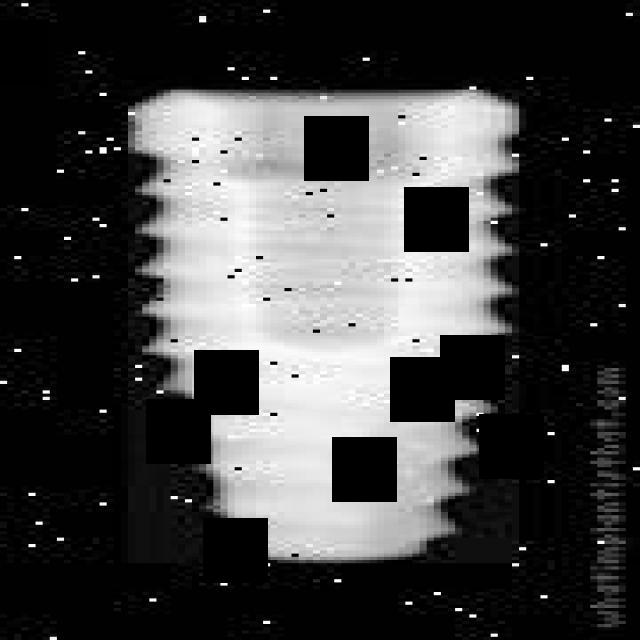Osstem Implant: (123, 89, 520, 566)
